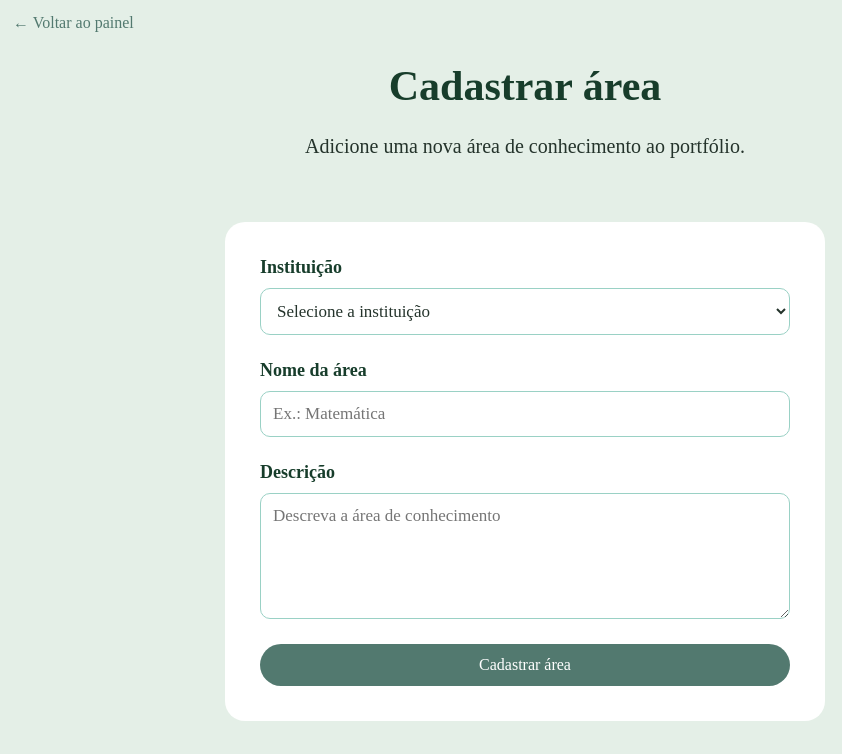
Scenario: Página CadastroArea › Deve exibir mensagem de erro no cadastro
Select "SESI" in the dropdown labelled "Instituição": [525, 312] box [260,288,790,335]
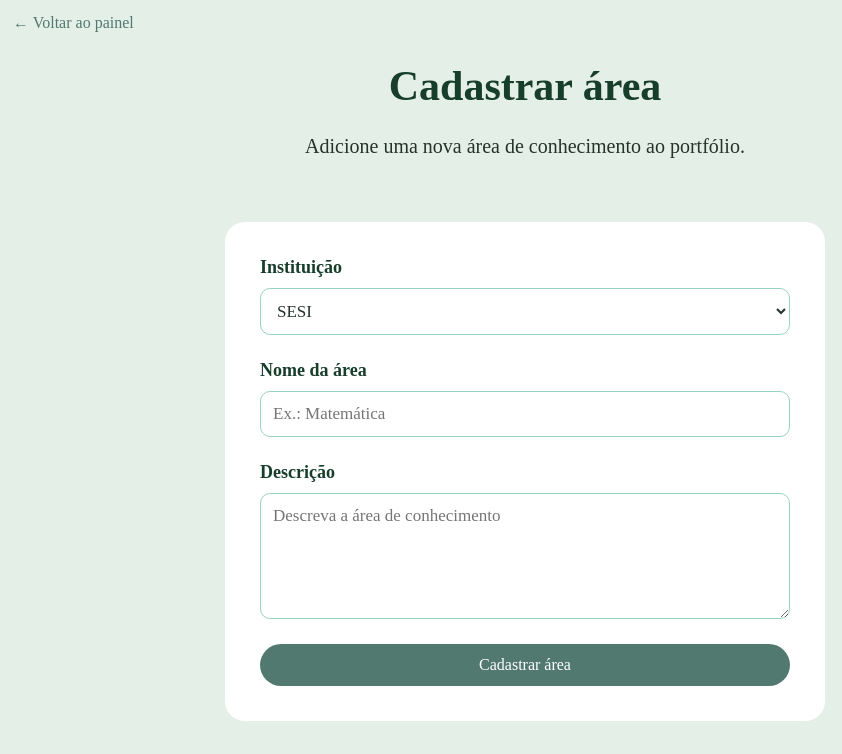
In the field labelled "Nome da área": [525, 414] box [260,391,790,437], type "Matemática"
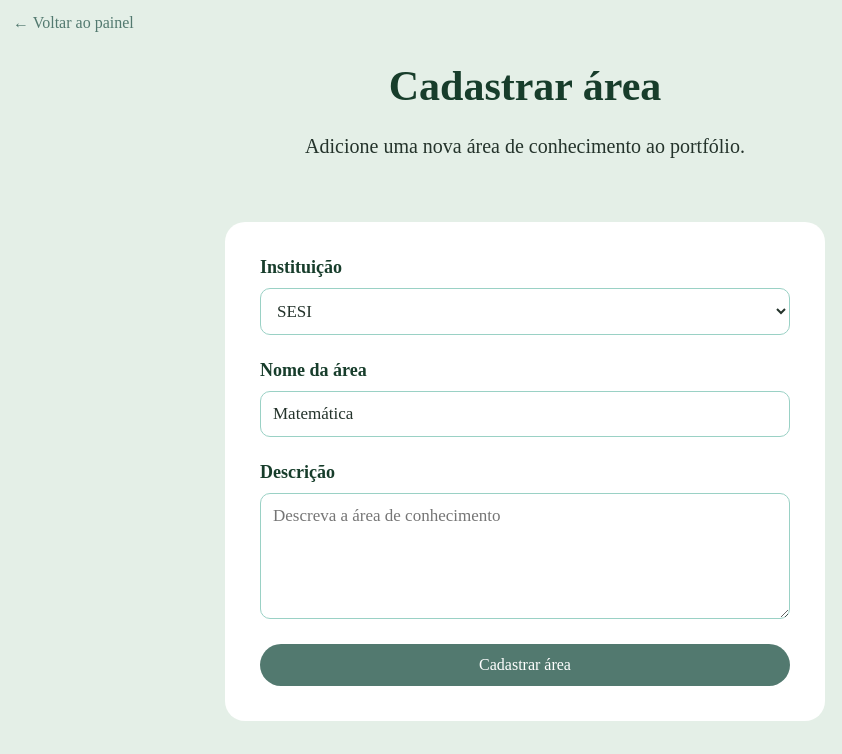
In the text box labelled "Descrição": [525, 556] box [260,493,790,619], type "Área de conhecimento"
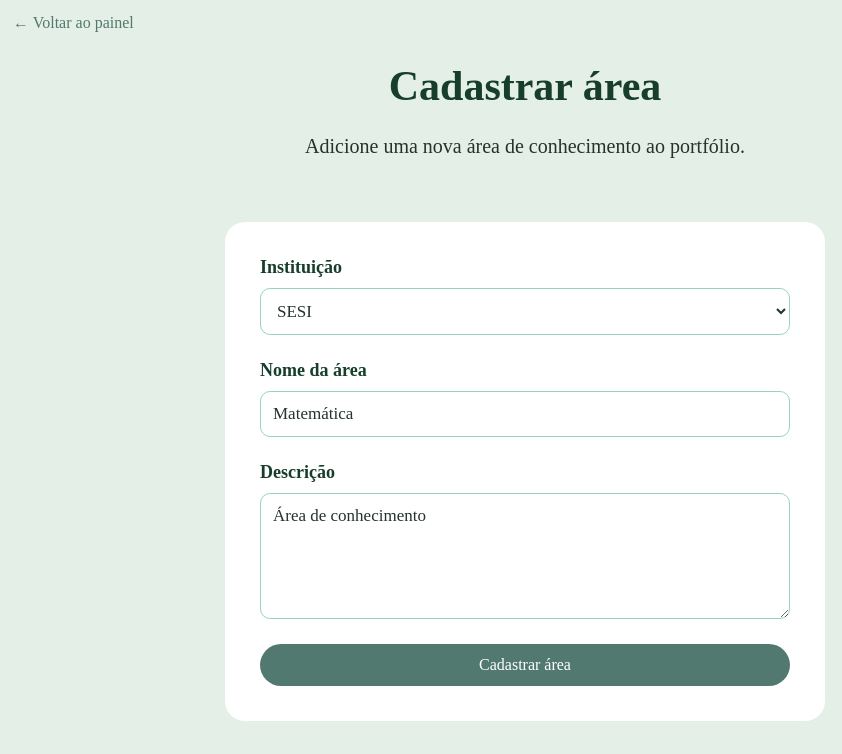
Click the button "Cadastrar área": [525, 665] box [260,644,790,686]
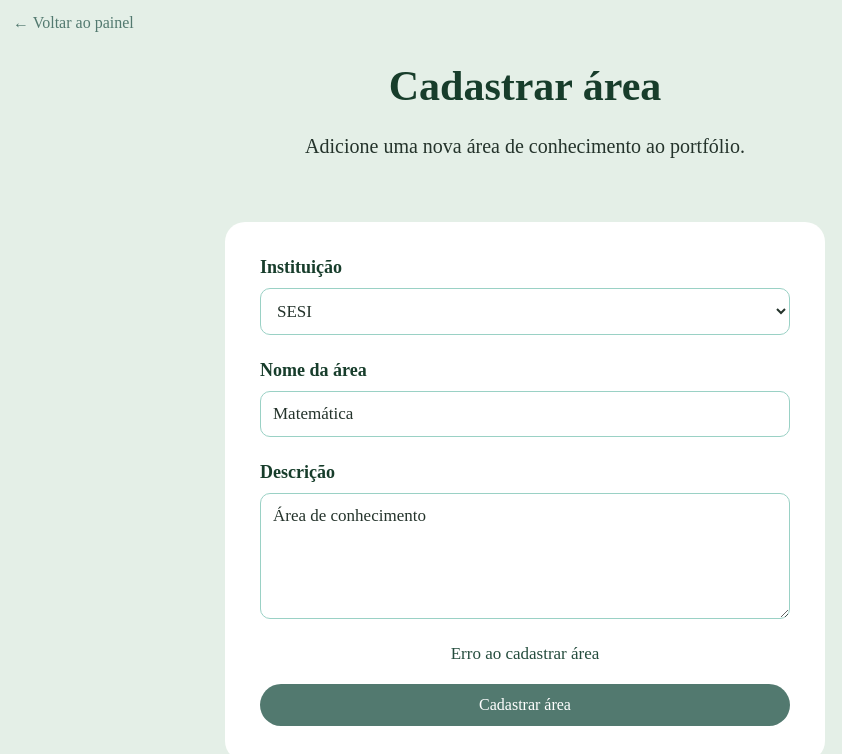
Now the message reads "Erro ao cadastrar área", box [451,644,599,663]
